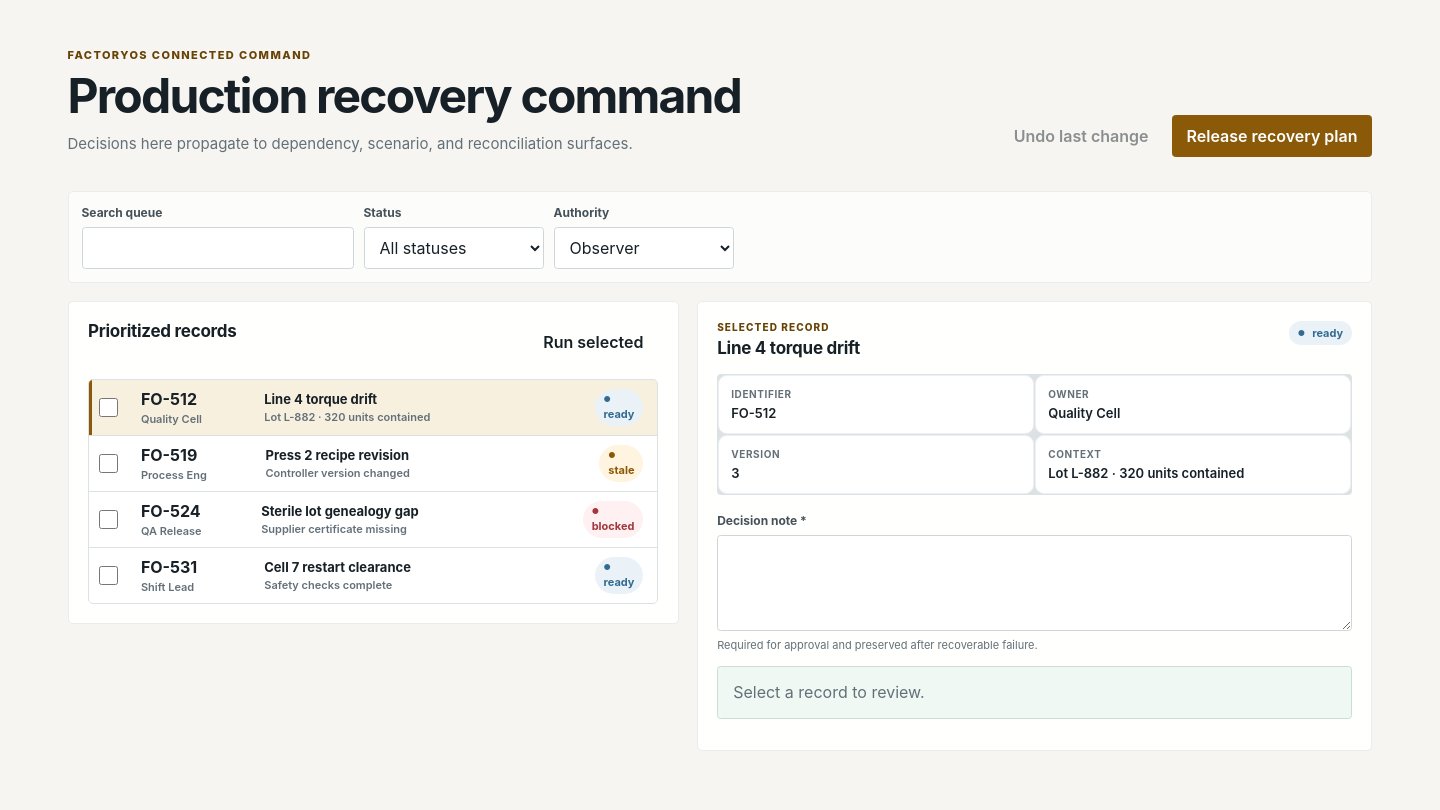
Production recovery command › enforces authority and validates the explanation
The width and height of the screenshot is (1440, 810).
Click the button "Release recovery plan" at (1272, 136), box x1=1172 y1=115 x2=1372 y2=157
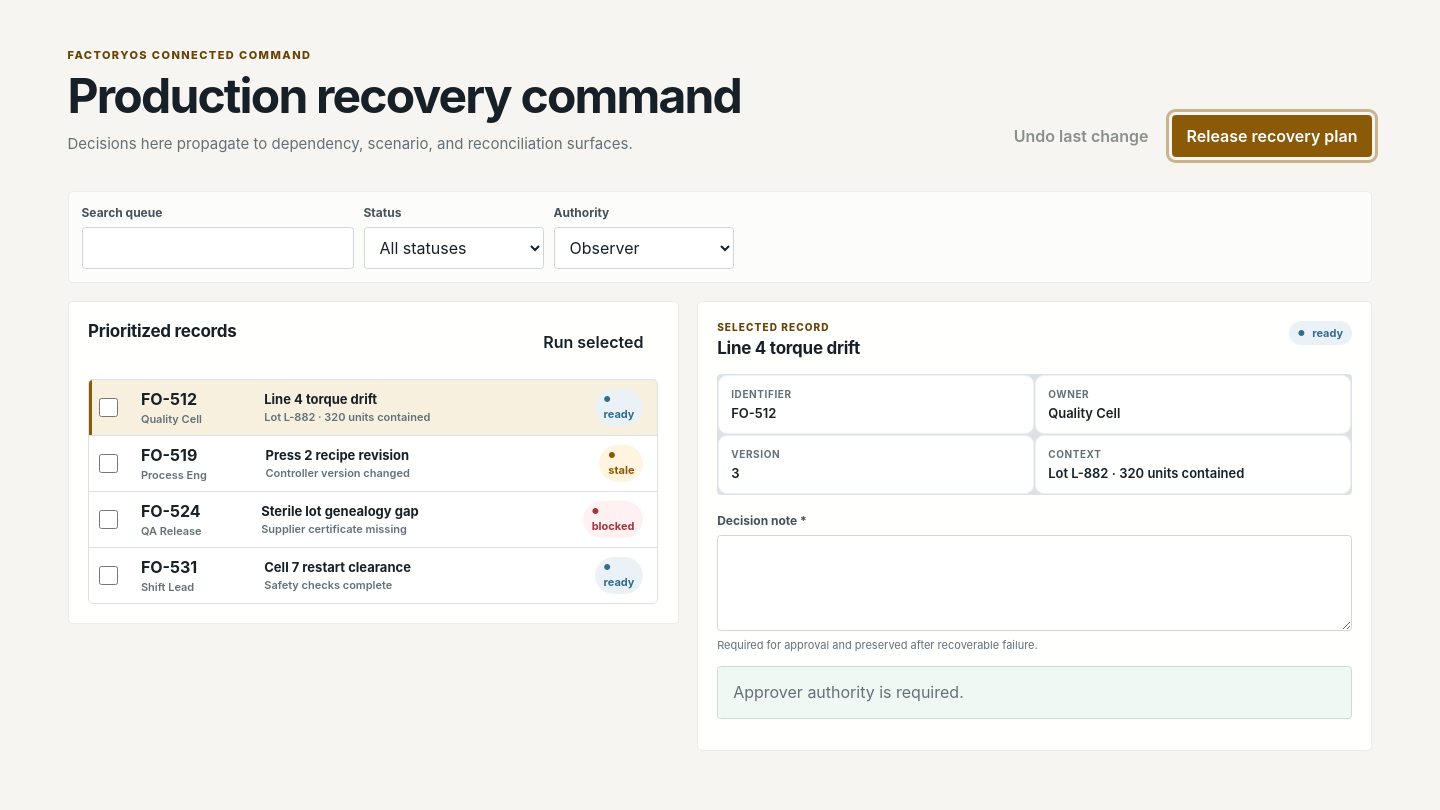
Result: the message shows "Approver authority" at x1=733 y1=682 x2=964 y2=702
Select "Approver" in the dropdown labelled "Authority" at (644, 248), box x1=554 y1=227 x2=734 y2=269
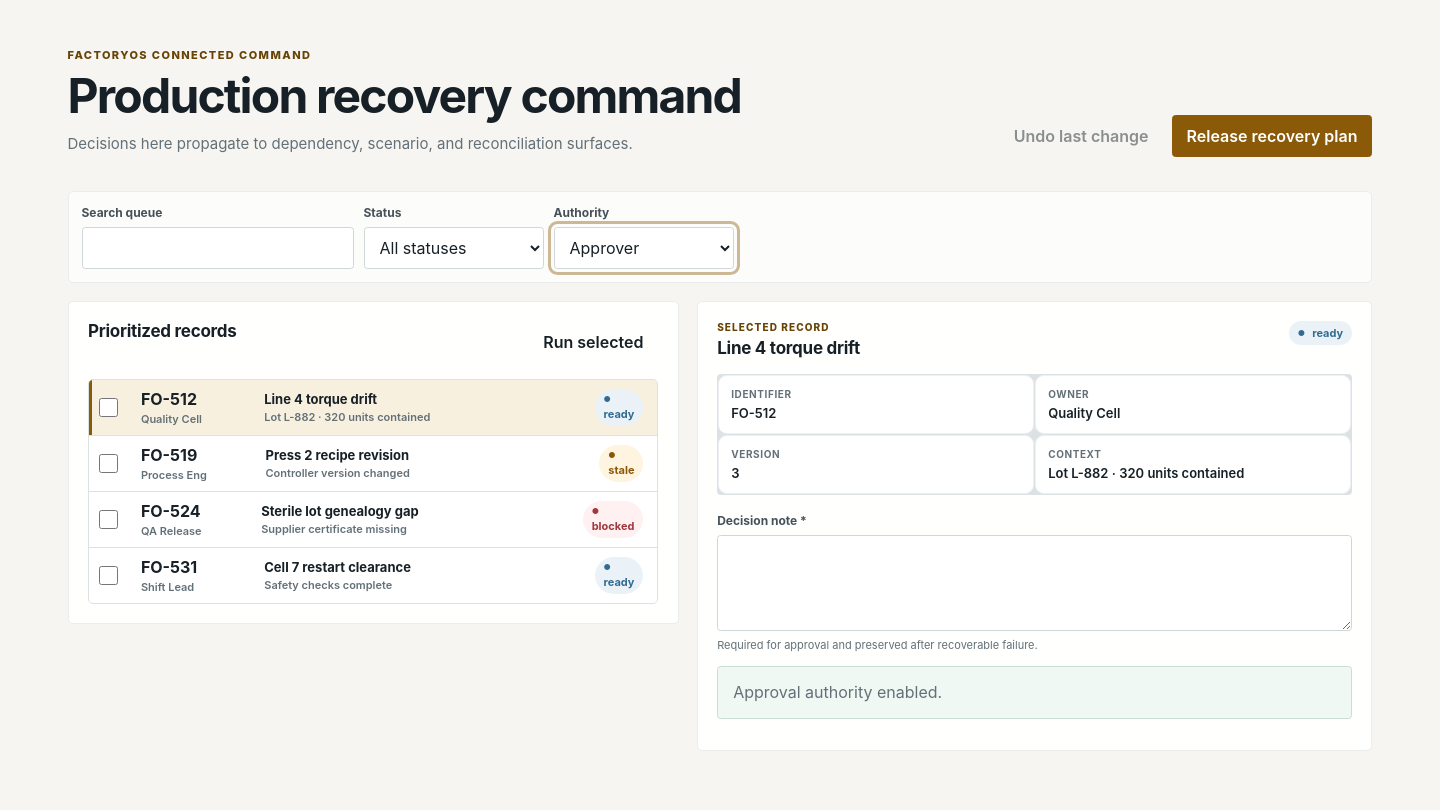
Type "short" into the text box labelled "Decision note" at (1035, 583), box x1=717 y1=535 x2=1352 y2=631
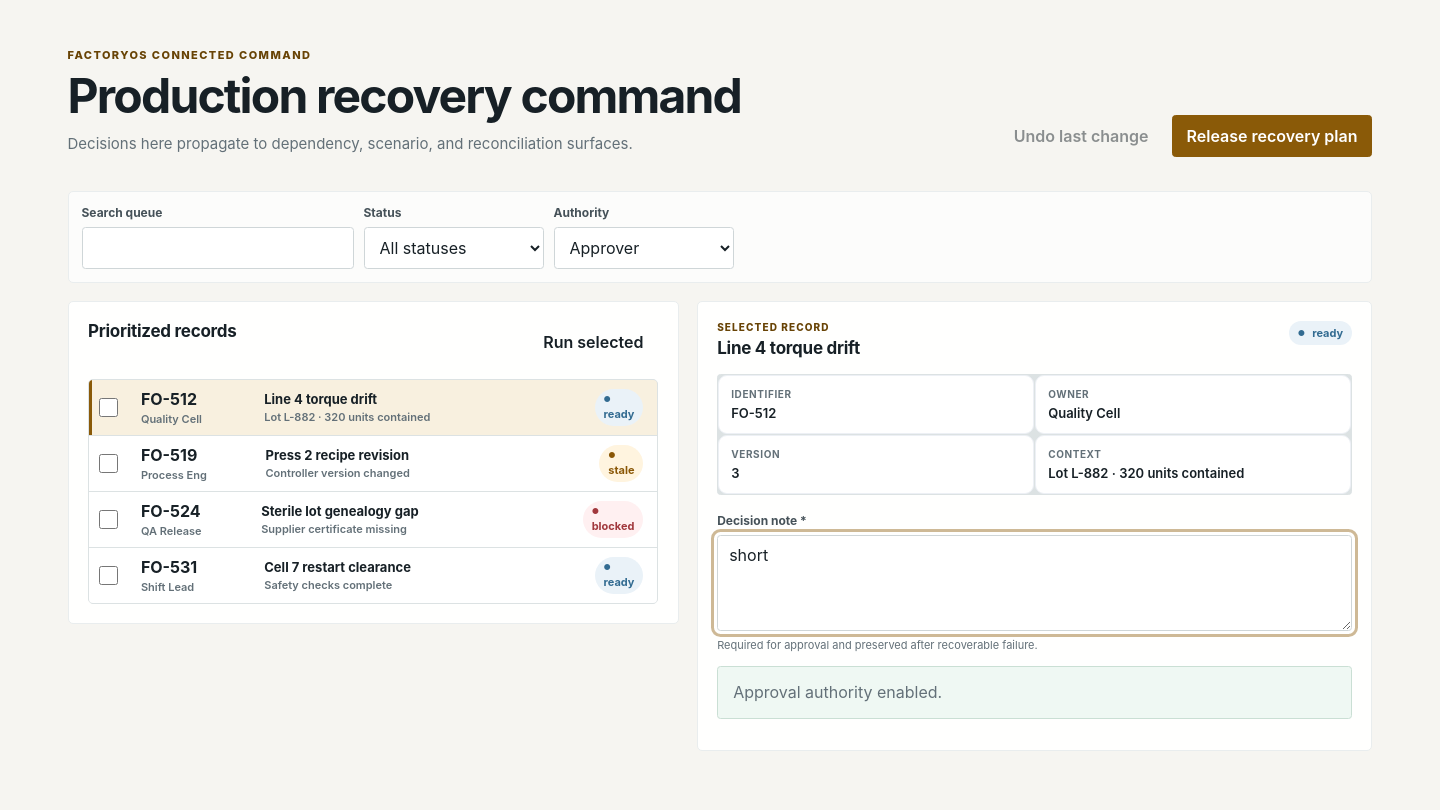
Click the button "Release recovery plan" at (1272, 136), box x1=1172 y1=115 x2=1372 y2=157
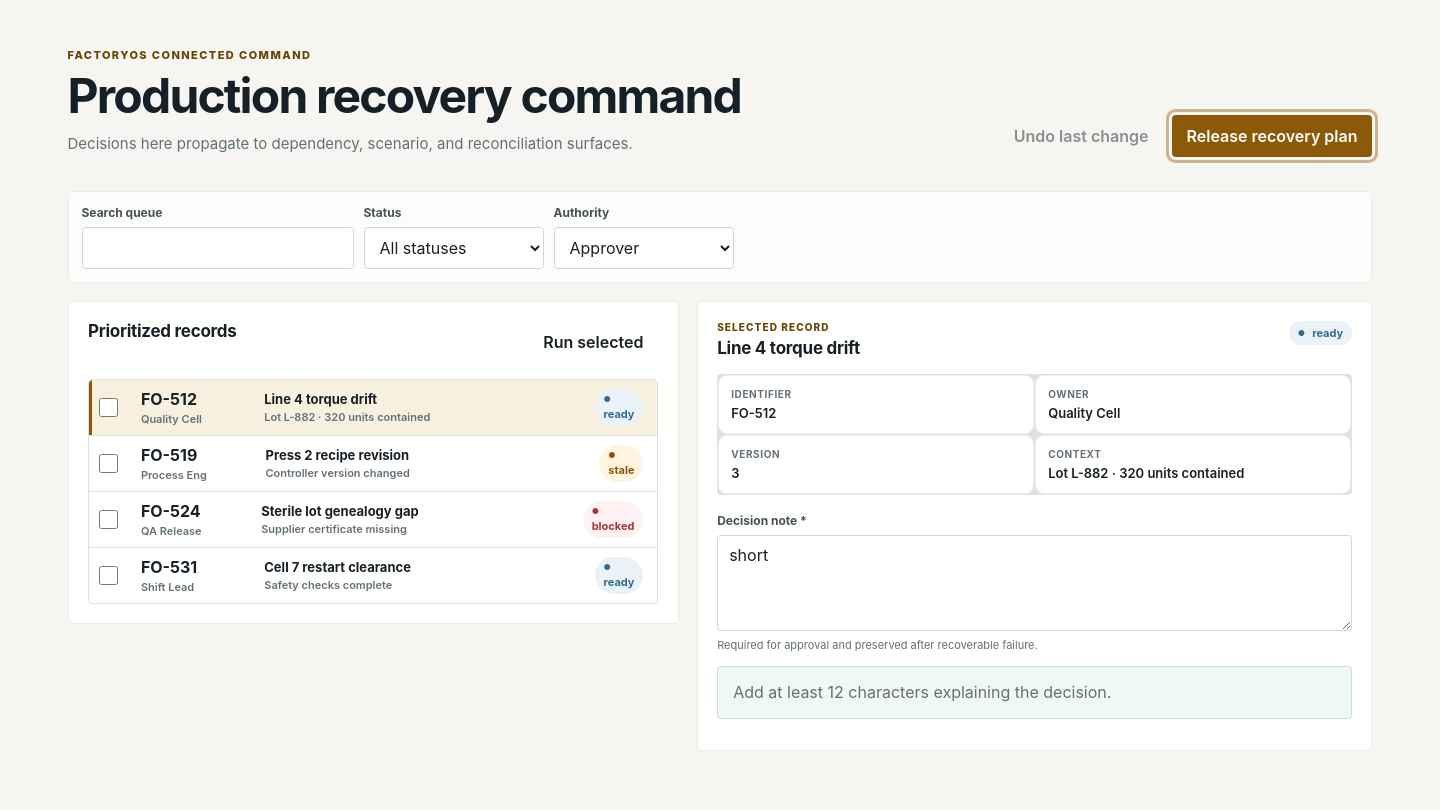
Result: the message shows "12 characters" at x1=733 y1=682 x2=1111 y2=702
